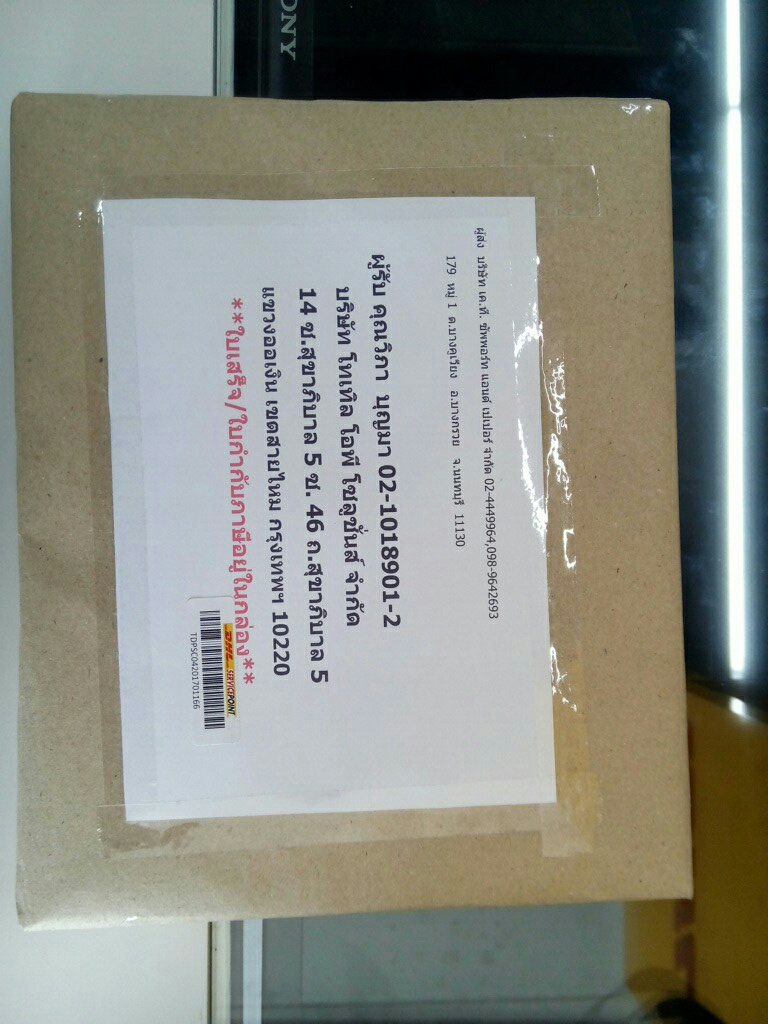ba: (182, 593, 239, 743)
txt: (231, 220, 506, 713)
